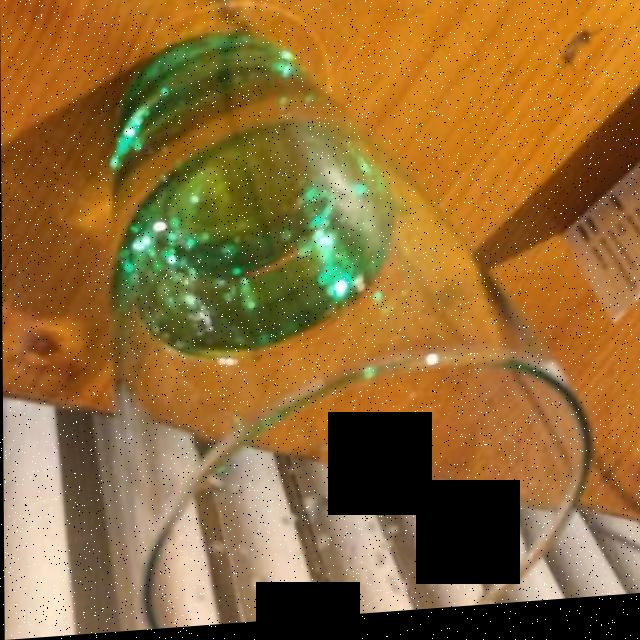water: (115, 103, 559, 505)
